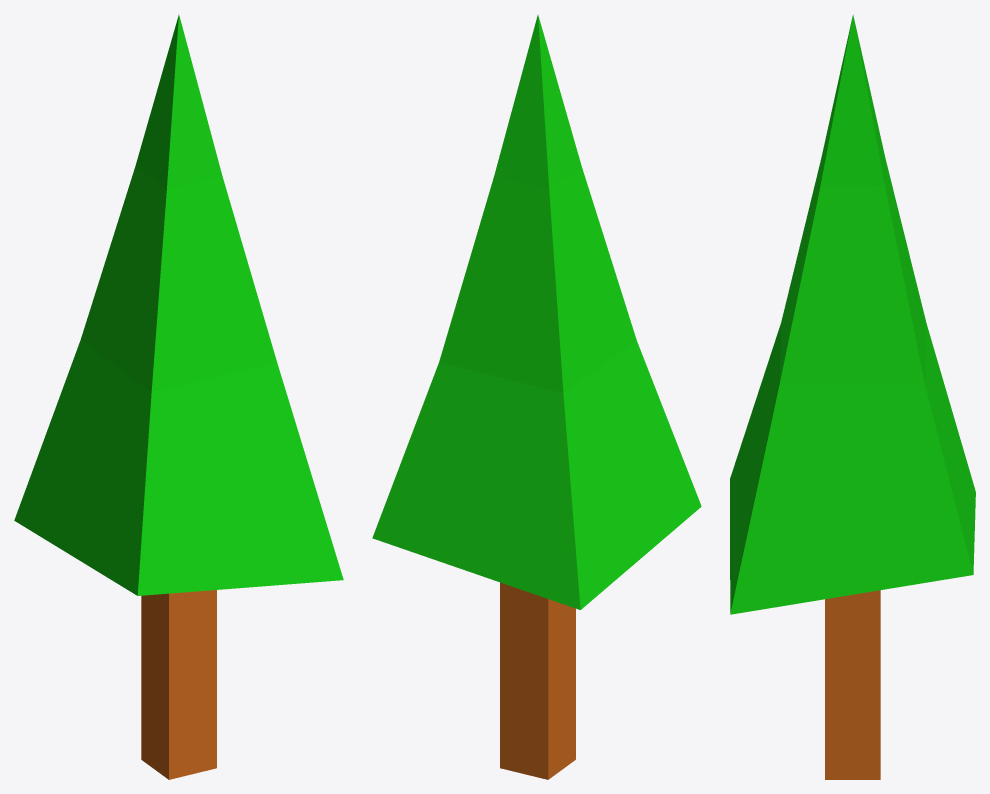
The model's file is Tree01.fbx.
3 views of the same model, side by side, from view 1: azimuth 30°, elevation 25°; view 2: azimuth 150°, elevation 25°; view 3: azimuth 270°, elevation 25° (orthographic).
Visible parts, largest first — view 1: Tree01; view 2: Tree01; view 3: Tree01.
Part boxes in pixels (box(x1,y1,x2,y2)): Tree01: box(14, 15, 343, 779); Tree01: box(372, 15, 701, 779); Tree01: box(730, 14, 975, 779).
Size of the model in its own units: 141 by 483 by 143.
